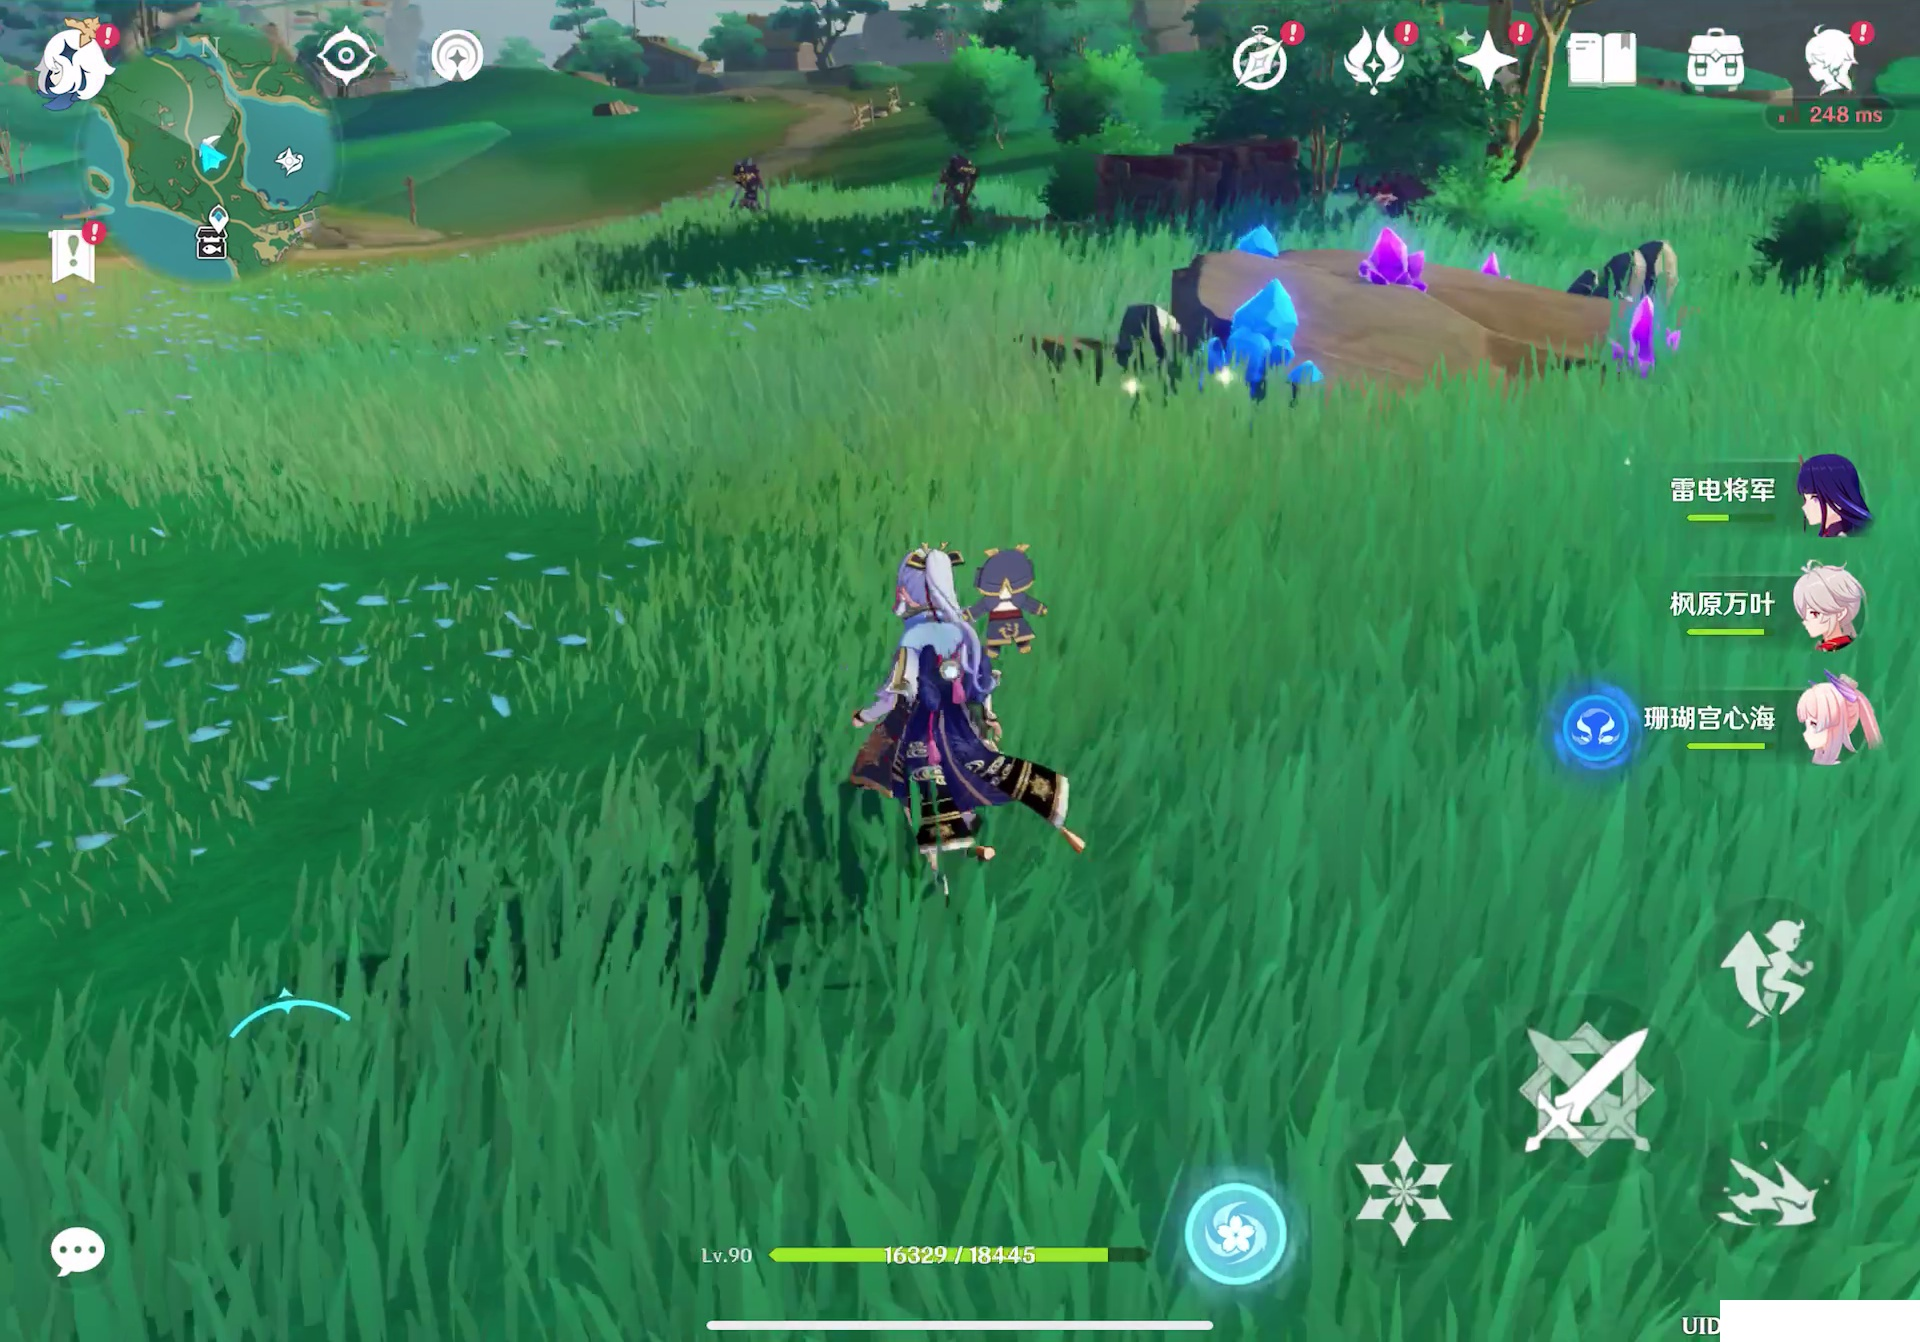丘丘人: (724, 153, 785, 228), (926, 146, 980, 214)
白铁矿石: (1584, 229, 1697, 290)
神里绫龟: (851, 541, 1064, 899)
紫矿石: (1606, 293, 1697, 398), (1355, 225, 1436, 300)
蓝矿石: (1215, 282, 1329, 401), (1228, 220, 1288, 260)
